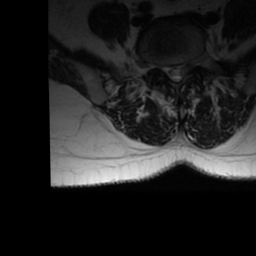CCS_normal: (172, 58, 180, 86)
LFS_normal: (186, 54, 194, 74)
LLS_normal: (179, 59, 186, 83)
RFS_severe_stenosis: (156, 57, 164, 76)
RLS_normal: (164, 60, 172, 81)
